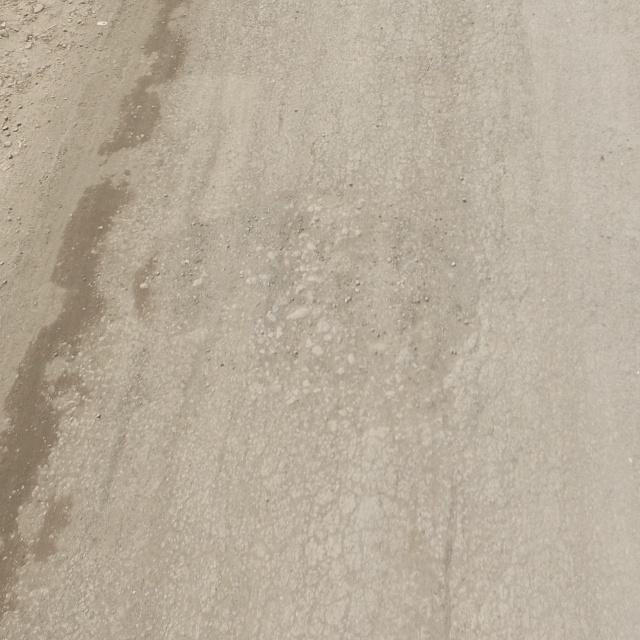BACHE: (278, 215, 474, 386)
PIEL DE COCODRILO: (263, 409, 485, 639), (365, 5, 516, 221), (445, 218, 540, 427)
